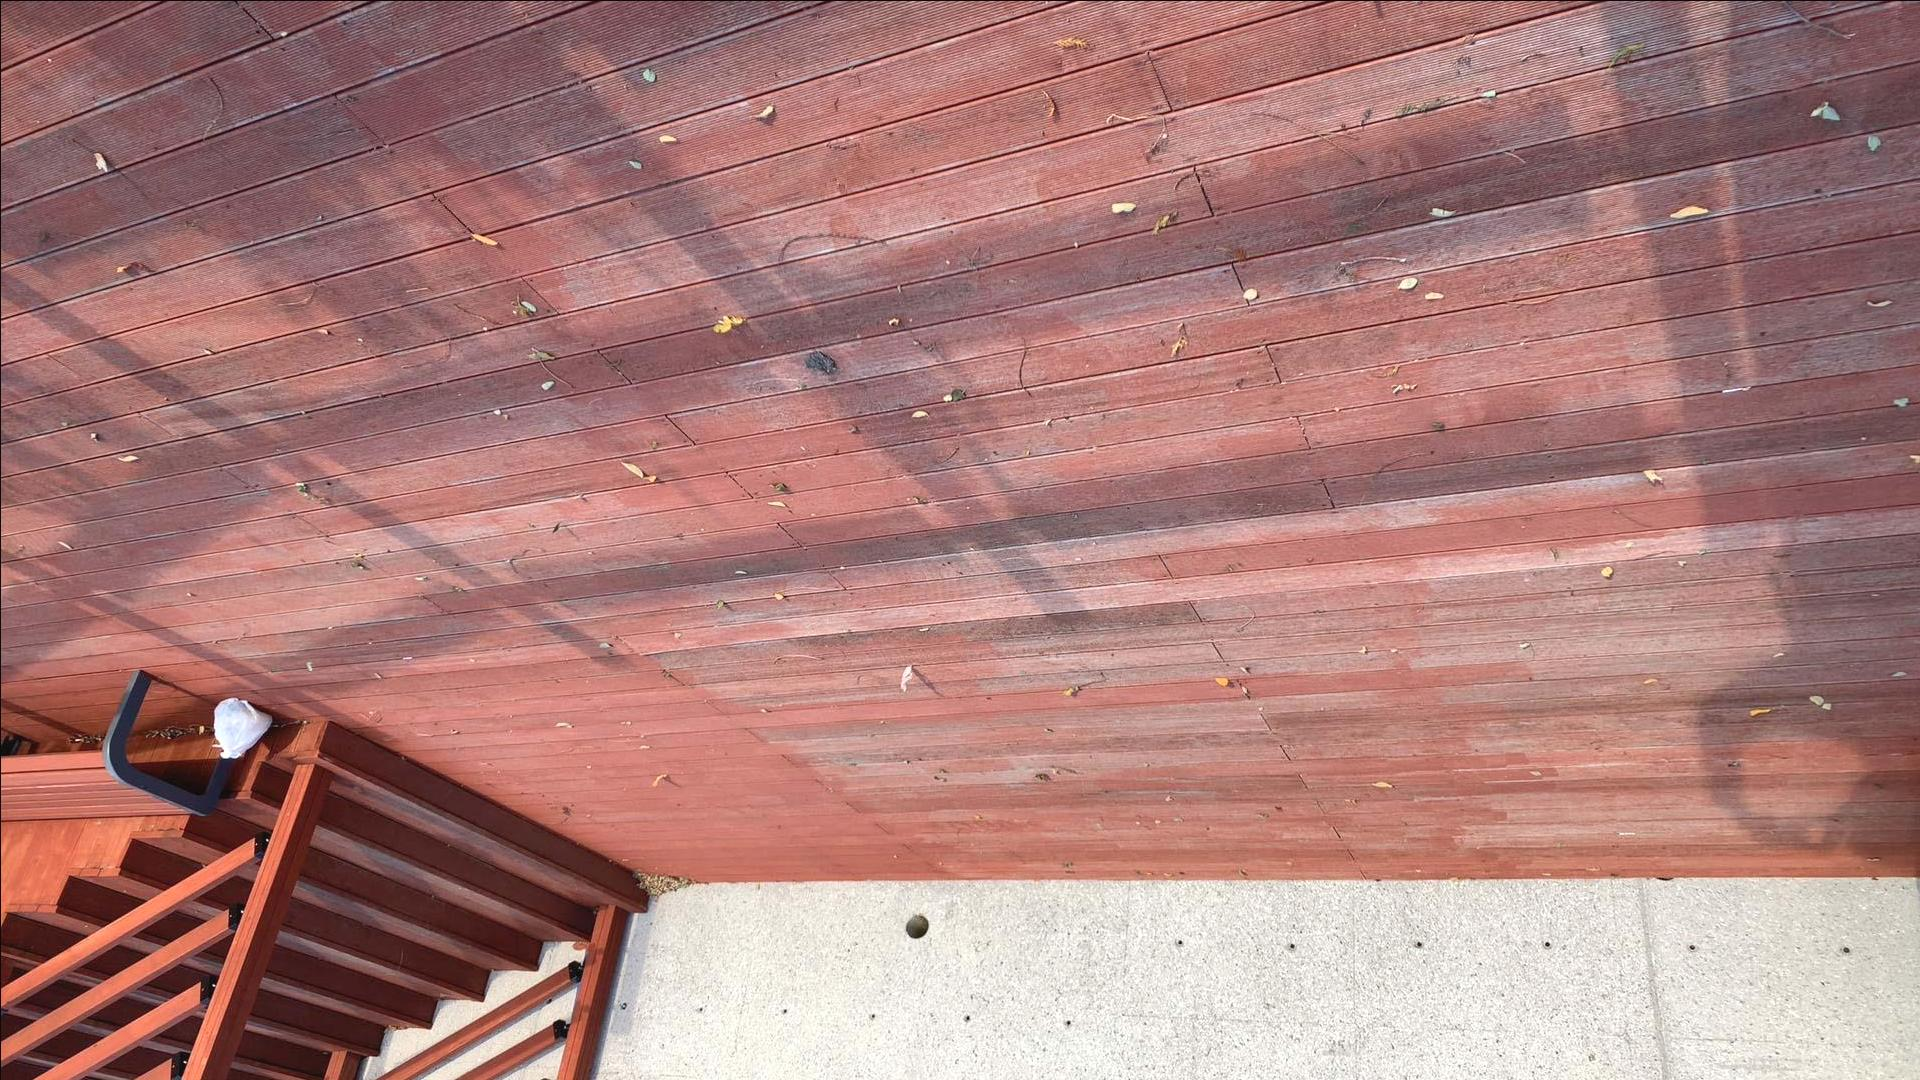white_bag: (206, 692, 280, 764)
